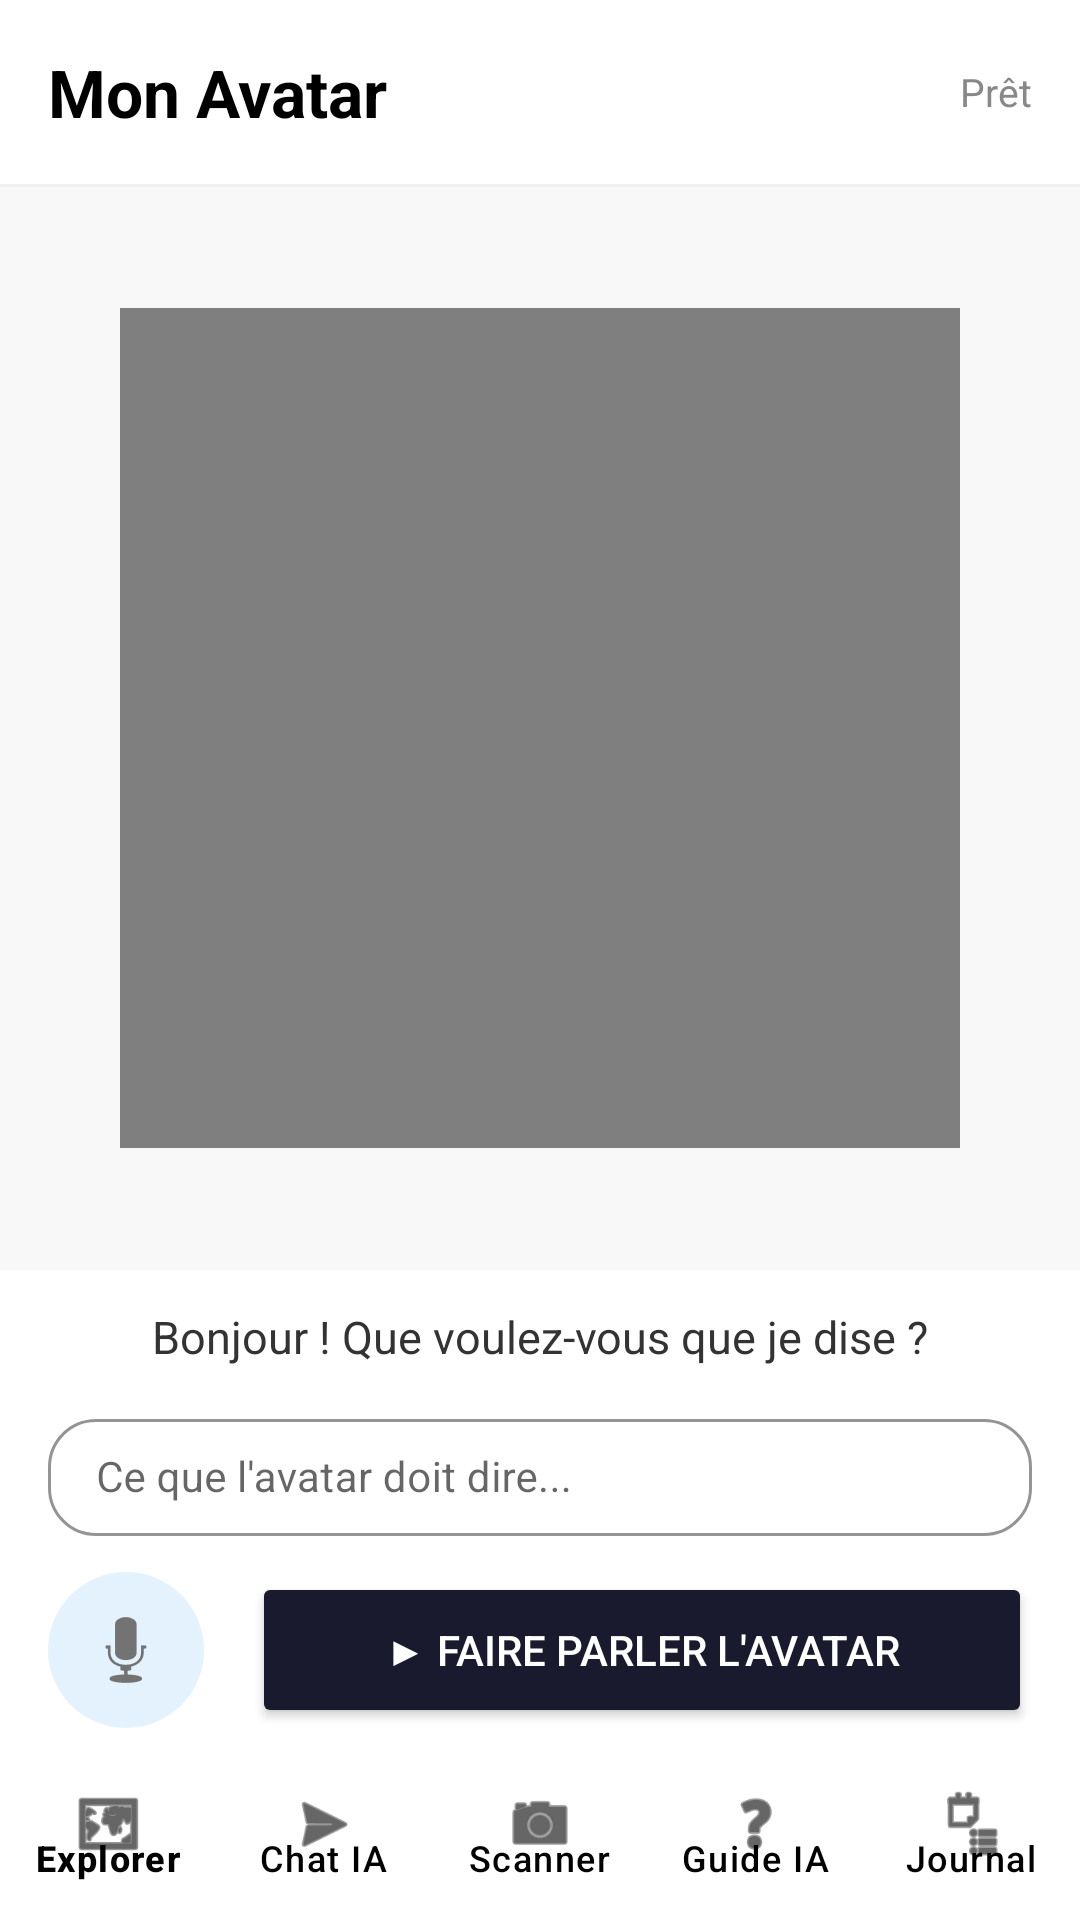

Icons on this 1080 × 1920 Android screen, each with the point to tap as (x,y):
Micro: (126,1650)
